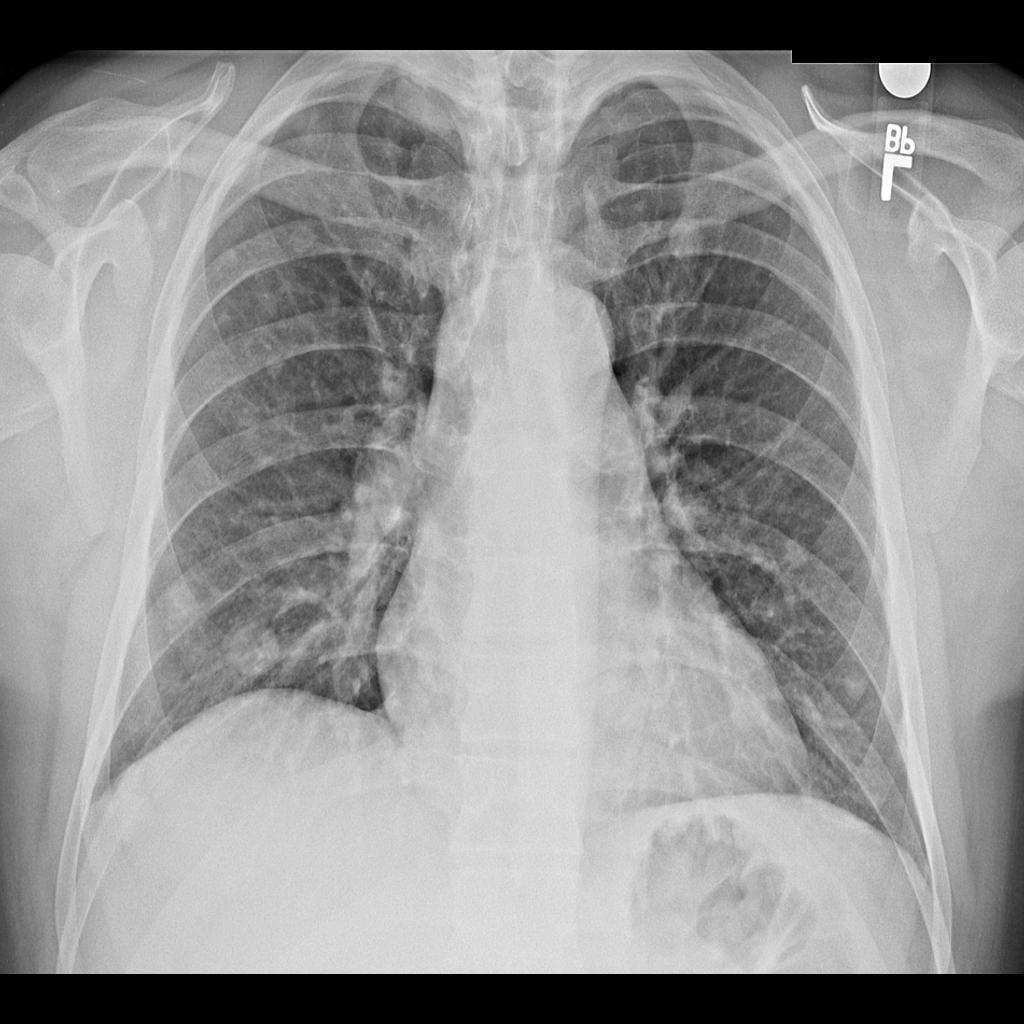Nodule: (222, 615, 281, 686), (156, 574, 203, 638), (844, 667, 872, 702)
